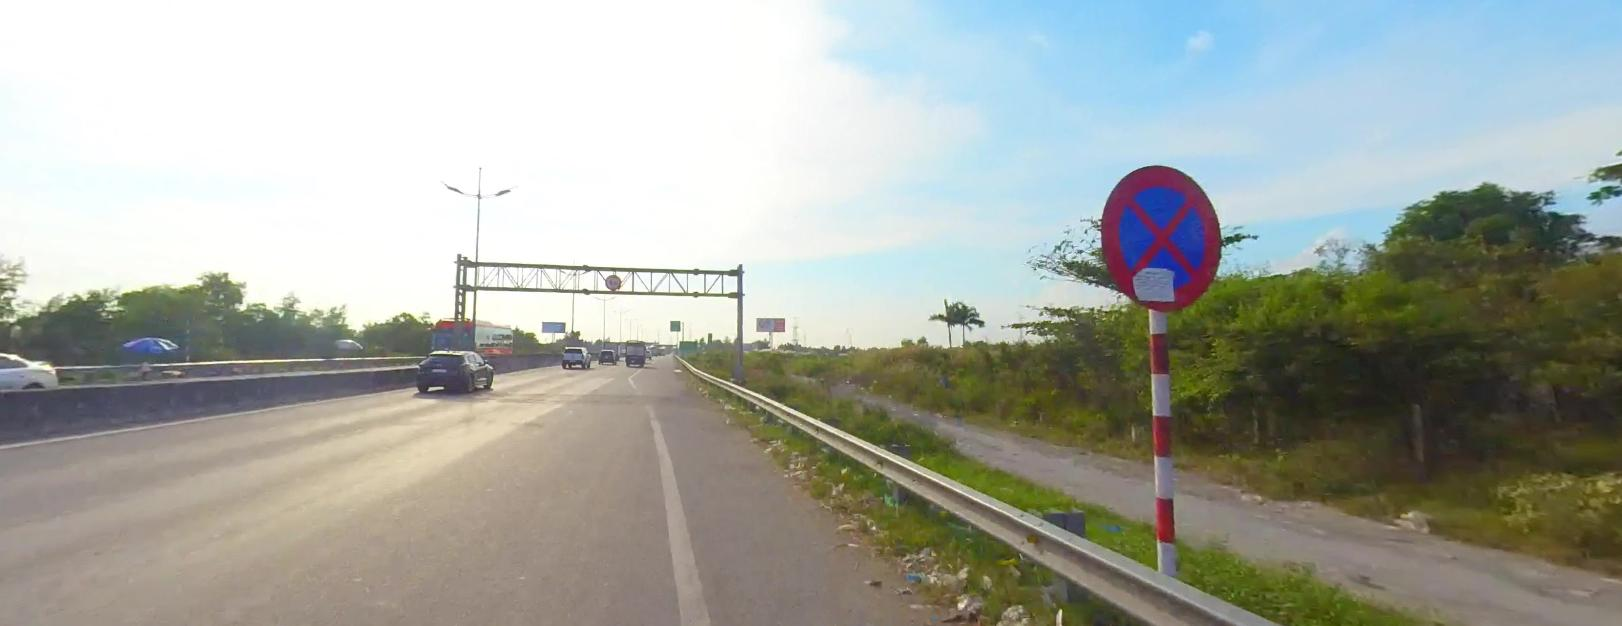Cam con lai: (605, 273, 620, 288)
Cam dung va do: (1099, 163, 1219, 310)
